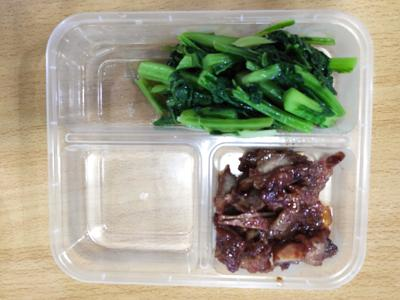dg: (139, 20, 361, 135)
r1: (210, 144, 357, 274)
